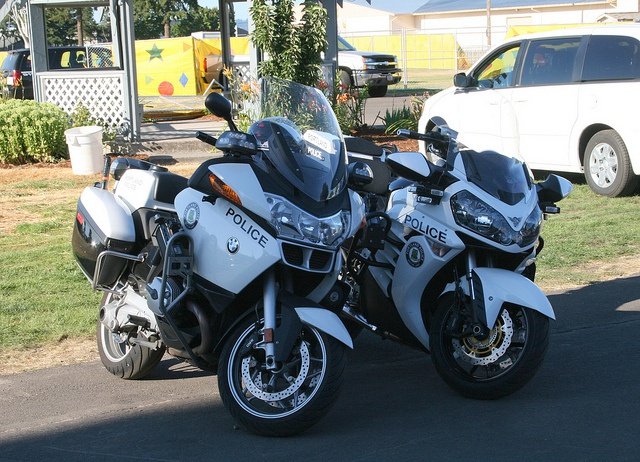non-vehicle: (70, 73, 376, 439), (344, 123, 574, 401)
